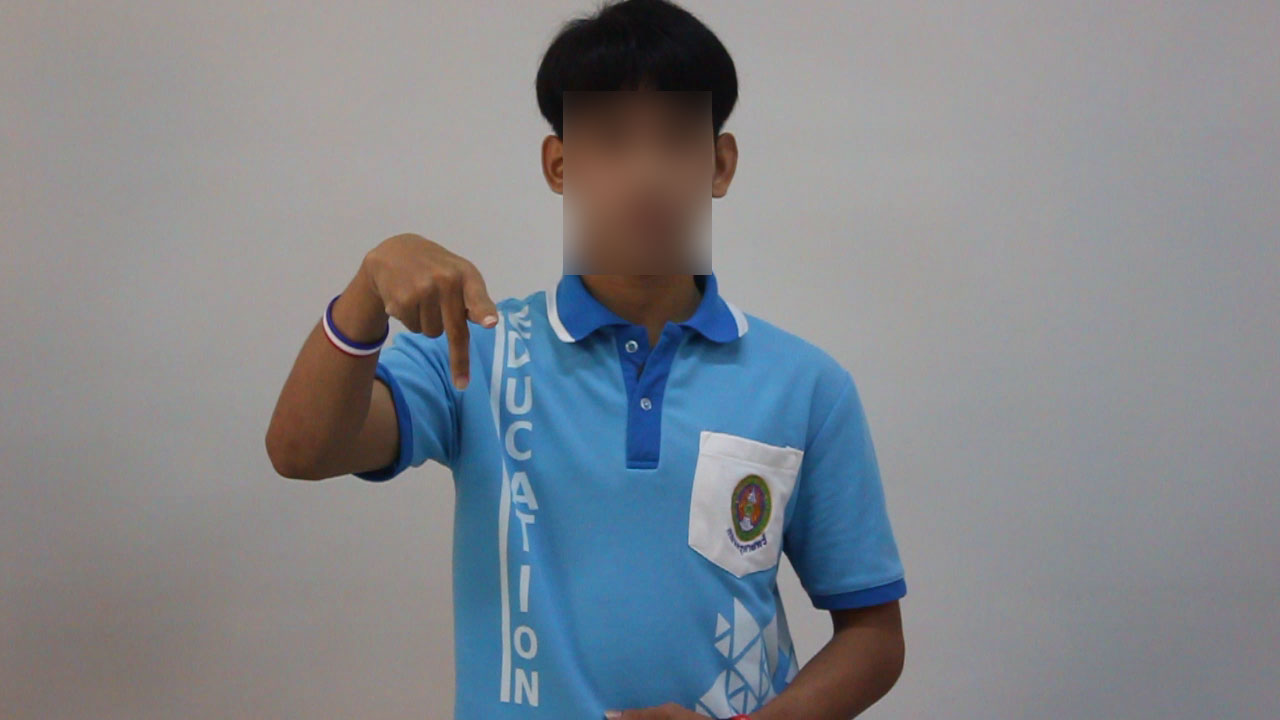por: (344, 200, 505, 395)
